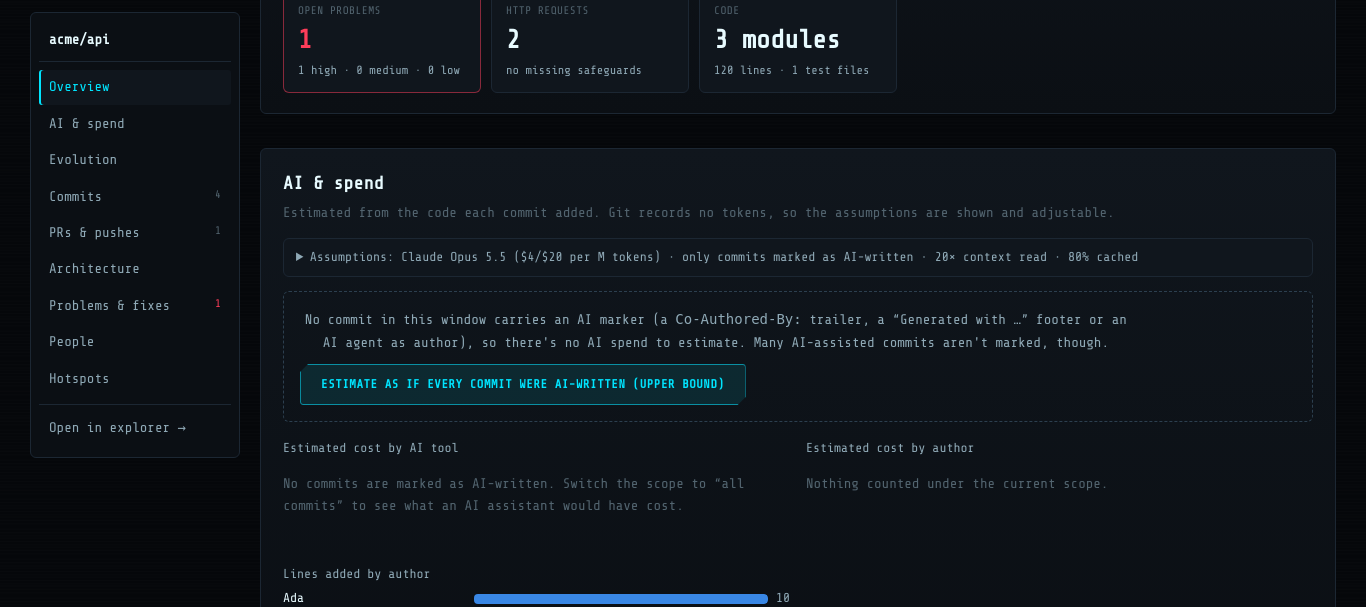
Test case: Report page › switches to the upper-bound estimate when nothing is marked as AI-written
(page scrolled)
Click the button "Estimate as if every commit were AI-written (upper bound)" at (523, 384), box x1=300 y1=364 x2=746 y2=405
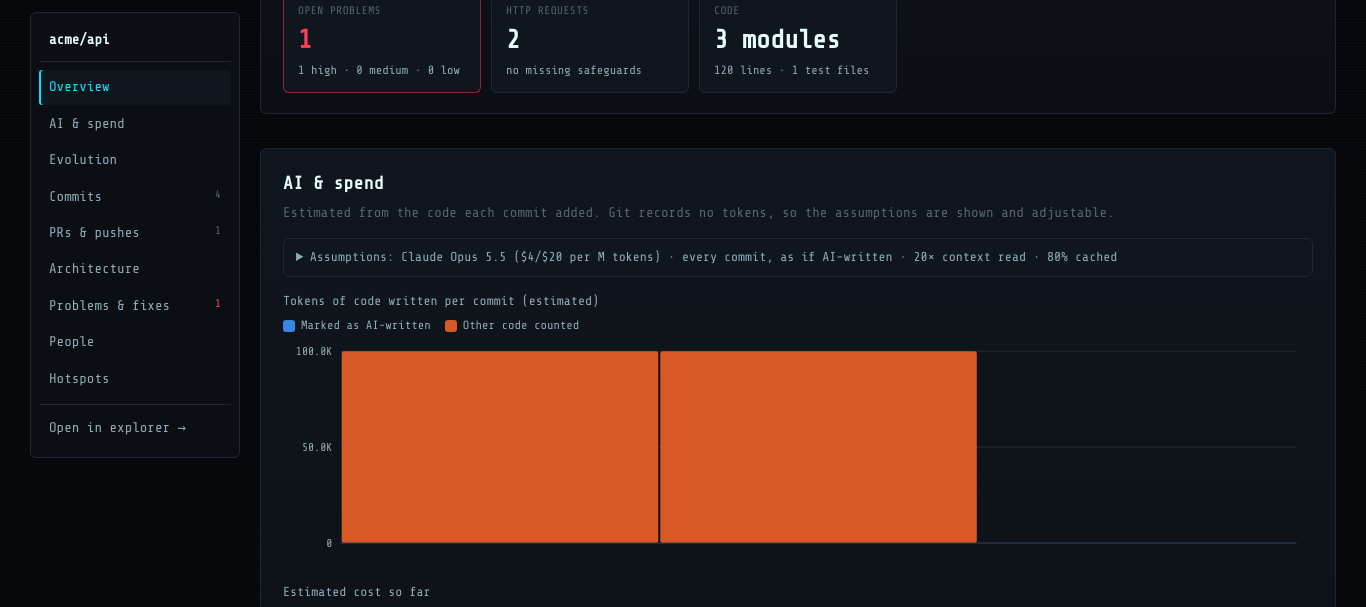
Check: the picture named "Estimated tokens written per commit" is shown, box x1=283 y1=339 x2=1313 y2=566
